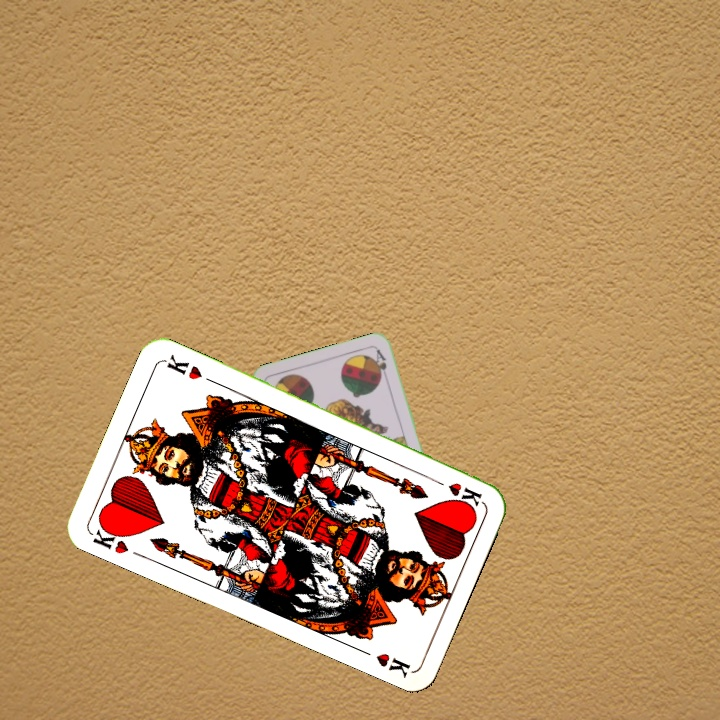HK: (428, 474, 485, 509), (89, 519, 132, 557)
